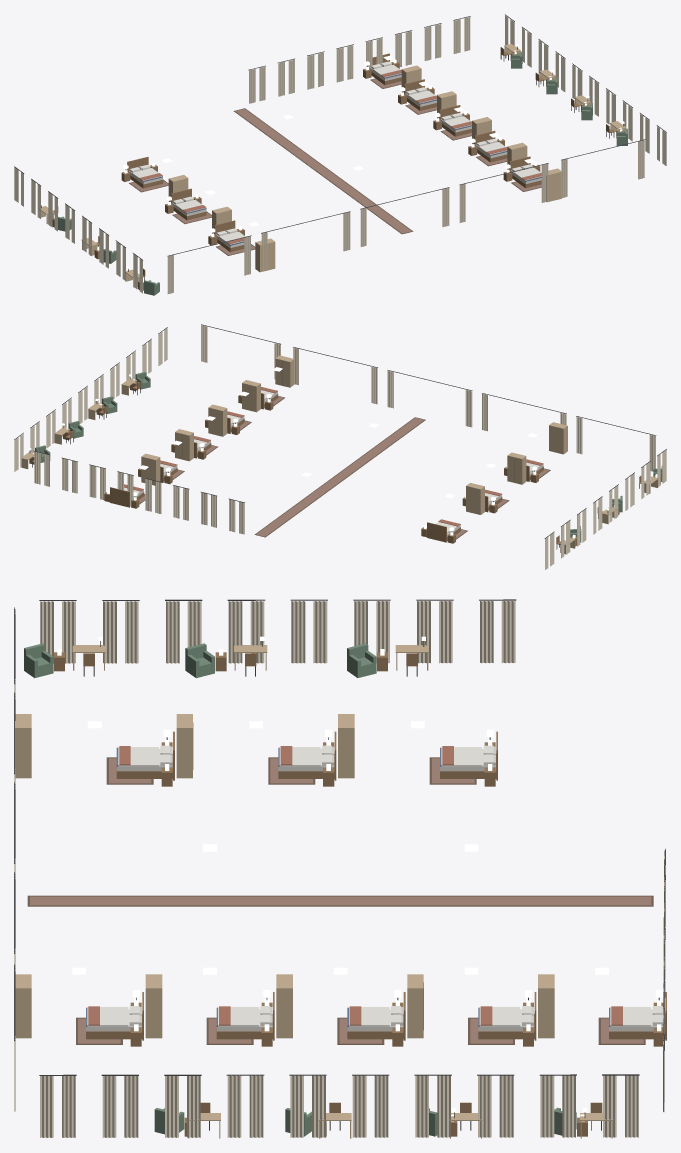
The model's file is fine-s1.glb.
3 views of the same model, one above another, from view 1: azimuth 30°, elevation 25°; view 2: azimuth 150°, elevation 25°; view 3: azimuth 270°, elevation 25° (orthographic). The views are drawn at different scales.
Visible parts, largest first — view 1: soft-s1, dresser.002, dresser.007, bed-frame.000, bed-frame.001, bed-frame.006, bed-frame.002, bed-frame.005; view 2: soft-s1, dresser.001, dresser.007, dresser.005, dresser.002, dresser.000, dresser.004, dresser.006, dresser.003, bed-frame.000, bed-frame.003; view 3: soft-s1, dresser.006, dresser.001, dresser.000, dresser.003, dresser.004, dresser.005, dresser.002, dresser.007, bed-frame.004, bed-frame.002, lounge-chair.000 (+8 smaller).
Boxes of the visible parts, left/top/right/bottom form: soft-s1: left=14, top=14, right=666, bottom=294; dresser.002: left=255, top=238, right=275, bottom=272; dresser.007: left=546, top=168, right=562, bottom=202; bed-frame.000: left=127, top=157, right=163, bottom=188; bed-frame.001: left=171, top=188, right=206, bottom=220; bed-frame.006: left=474, top=130, right=507, bottom=162; bed-frame.002: left=214, top=220, right=244, bottom=251; bed-frame.005: left=439, top=105, right=471, bottom=136; soft-s1: left=14, top=324, right=666, bottom=569; dresser.001: left=507, top=452, right=526, bottom=484; dresser.007: left=275, top=355, right=294, bottom=387; dresser.005: left=208, top=404, right=227, bottom=436; dresser.002: left=549, top=422, right=567, bottom=454; dresser.000: left=466, top=483, right=484, bottom=514; dresser.004: left=175, top=429, right=193, bottom=461; dresser.006: left=242, top=380, right=260, bottom=412; dresser.003: left=141, top=453, right=160, bottom=485; bed-frame.000: left=427, top=522, right=460, bottom=542; bed-frame.003: left=110, top=487, right=144, bottom=507; soft-s1: left=14, top=599, right=665, bottom=1137; dresser.006: left=145, top=974, right=162, bottom=1038; dresser.001: left=176, top=714, right=193, bottom=778; dresser.000: left=338, top=714, right=354, bottom=778; dresser.003: left=538, top=974, right=554, bottom=1038; dresser.004: left=407, top=974, right=423, bottom=1038; dresser.005: left=276, top=974, right=292, bottom=1038; dresser.002: left=15, top=714, right=31, bottom=778; dresser.007: left=15, top=974, right=31, bottom=1038; bed-frame.004: left=478, top=992, right=536, bottom=1040; bed-frame.002: left=116, top=731, right=174, bottom=780; lounge-chair.000: left=347, top=643, right=376, bottom=677.
Size of the model in its own units: 40.69 by 2.91 by 23.61.
